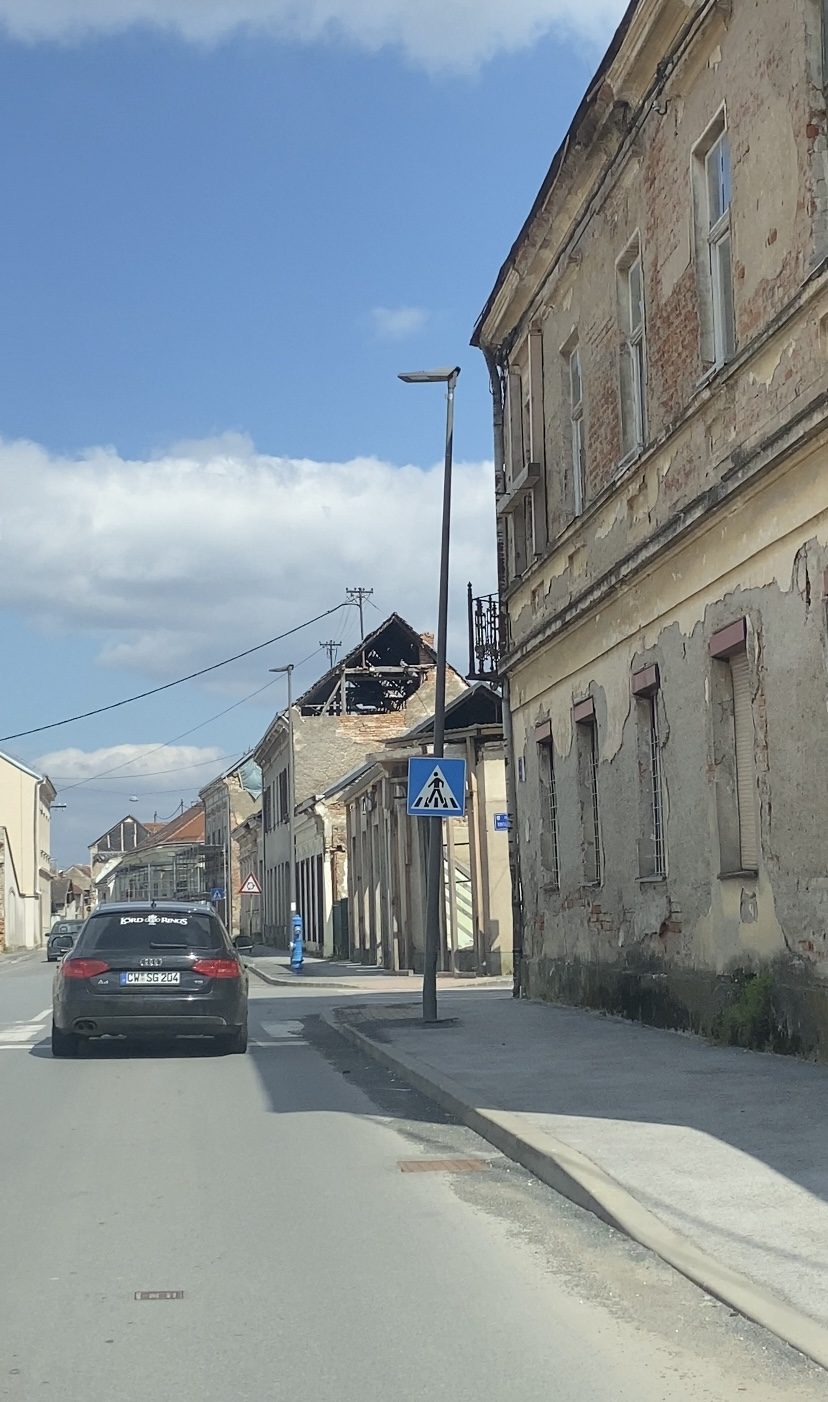Pješački prijelaz: (407, 757, 466, 817)
